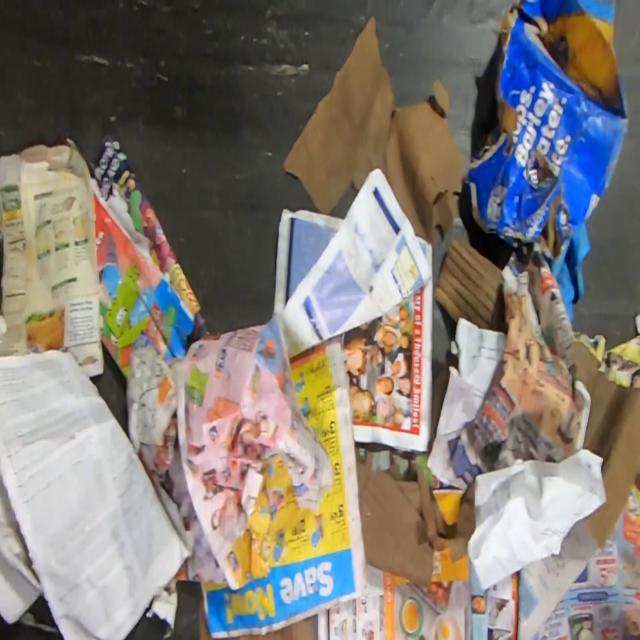cardboard: (464, 0, 630, 325), (0, 137, 104, 377), (354, 441, 474, 586), (574, 340, 640, 552), (433, 237, 507, 335), (198, 583, 314, 639)
